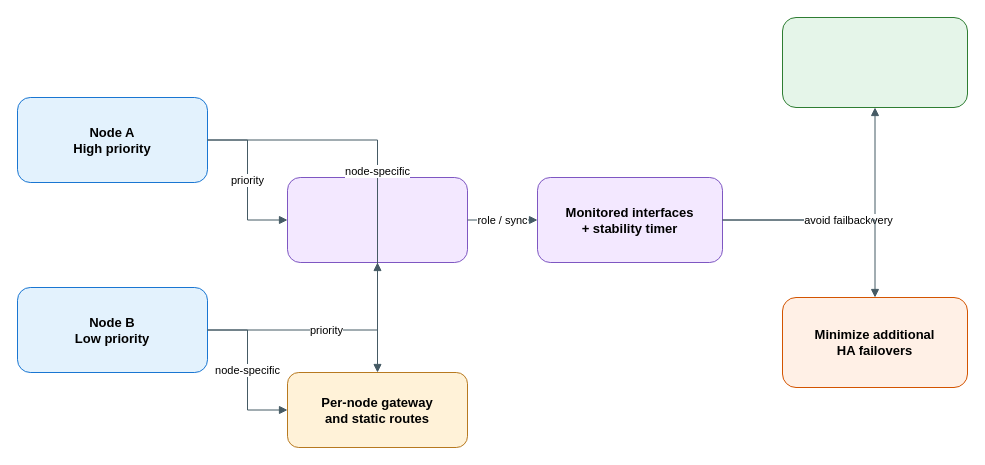
This 985x465 diagram has some shape labels left out. The box of each missing label's shape, as (x1, y1, x2, y2) in pixels:
Favor healthy high-priority node: (782, 16, 968, 108)
HA heartbeat UDP / 720: (286, 176, 468, 262)
